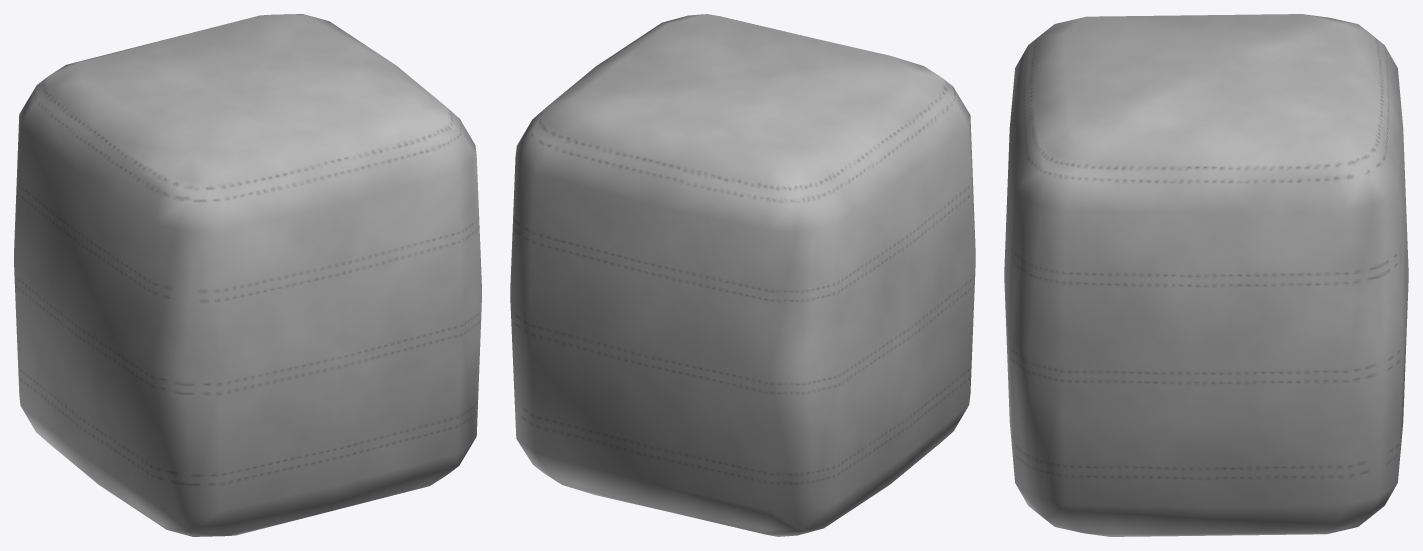
The model's file is RightLowerLeg_C1.fbx.
3 views of the same model, side by side, from view 1: azimuth 30°, elevation 25°; view 2: azimuth 150°, elevation 25°; view 3: azimuth 270°, elevation 25° (orthographic). The views are drawn at different scales.
Parts seen in each view (by area): view 1: Civ_PantalonVestir_RightLowerLeg_C1; view 2: Civ_PantalonVestir_RightLowerLeg_C1; view 3: Civ_PantalonVestir_RightLowerLeg_C1.
Boxes of the visible parts, x1,y1,x2,y2 form: Civ_PantalonVestir_RightLowerLeg_C1: [14, 14, 481, 536]; Civ_PantalonVestir_RightLowerLeg_C1: [510, 14, 975, 536]; Civ_PantalonVestir_RightLowerLeg_C1: [1004, 14, 1408, 536].
Bounding box in the file's own units: 1.24 × 1.37 × 1.22.
